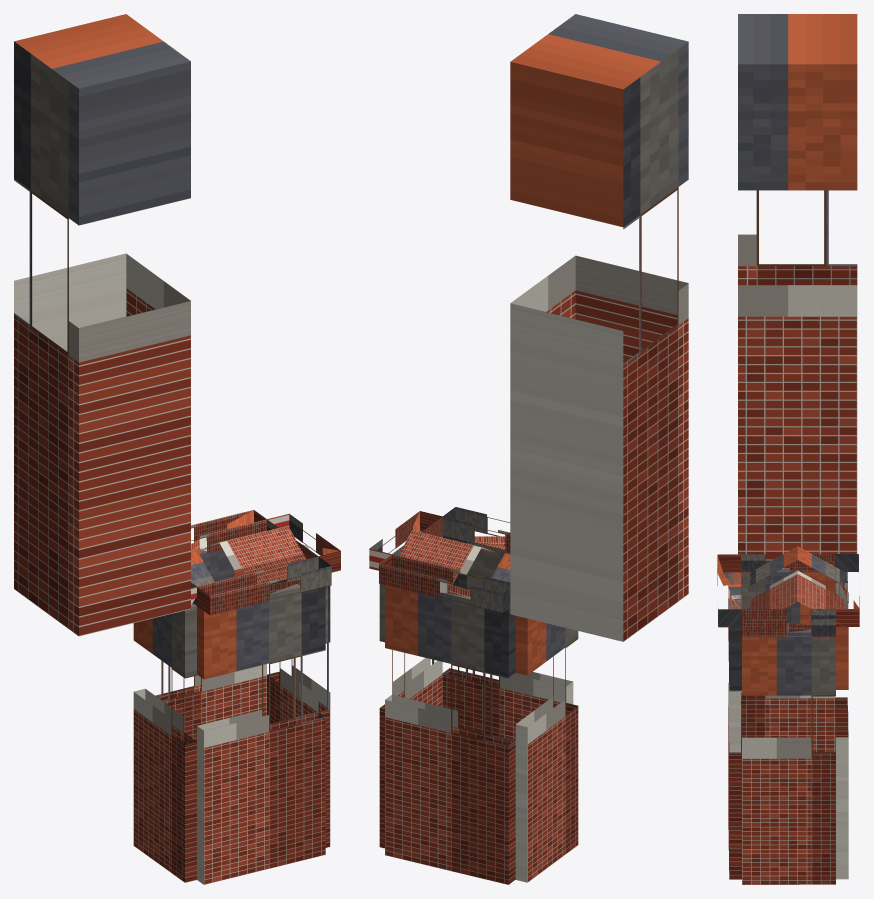
3 renders of one model, left to right at view 1: azimuth 30°, elevation 25°; view 2: azimuth 150°, elevation 25°; view 3: azimuth 270°, elevation 25°, orthographic. The views are drawn at different scales.
Parts seen in each view (by area): view 1: 1107168846__chimney_0_xb, 1107168846__wall_2_xb, 1107168846__wall_3_xb, 1107168846__wall_0_xb, 1107168846__wall_1_xb, 1107168846__cornice_2, 1107168846_roof_-1_xb, 1107168846__cornice_0, 1107168846__cornice_1; view 2: 1107168846__chimney_0_xb, 1107168846__wall_0_xb, 1107168846__wall_3_xb, 1107168846__wall_2_xb, 1107168846__cornice_0, 1107168846__wall_1_xb, 1107168846_roof_1_xb, 1107168846__cornice_2, 1107168846__cornice_1; view 3: 1107168846__chimney_0_xb, 1107168846__wall_1_xb, 1107168846__wall_3_xb, 1107168846__wall_2_xb, 1107168846__wall_0_xb, 1107168846__cornice_1, 1107168846_roof_1_xb, 1107168846_roof_-1_xb, 1107168846__cornice_2, 1107168846__cornice_0, 1107168846__cornice_3.
Boxes of the visible parts, left/top/right/bottom form: 1107168846__chimney_0_xb: left=14, top=14, right=190, bottom=636; 1107168846__wall_2_xb: left=197, top=583, right=325, bottom=884; 1107168846__wall_3_xb: left=133, top=604, right=196, bottom=882; 1107168846__wall_0_xb: left=155, top=549, right=266, bottom=741; 1107168846__wall_1_xb: left=267, top=579, right=330, bottom=847; 1107168846__cornice_2: left=197, top=556, right=331, bottom=615; 1107168846_roof_-1_xb: left=191, top=526, right=305, bottom=586; 1107168846__cornice_0: left=191, top=510, right=266, bottom=555; 1107168846__cornice_1: left=267, top=513, right=340, bottom=572; 1107168846__chimney_0_xb: left=510, top=14, right=688, bottom=641; 1107168846__wall_0_xb: left=385, top=585, right=515, bottom=884; 1107168846__wall_3_xb: left=515, top=616, right=578, bottom=882; 1107168846__wall_2_xb: left=442, top=536, right=573, bottom=740; 1107168846__cornice_0: left=379, top=554, right=510, bottom=612; 1107168846__wall_1_xb: left=379, top=536, right=442, bottom=848; 1107168846_roof_1_xb: left=399, top=530, right=510, bottom=584; 1107168846__cornice_2: left=442, top=507, right=510, bottom=552; 1107168846__cornice_1: left=369, top=511, right=442, bottom=570; 1107168846__chimney_0_xb: left=738, top=14, right=857, bottom=568; 1107168846__wall_1_xb: left=742, top=630, right=835, bottom=884; 1107168846__wall_3_xb: left=741, top=569, right=834, bottom=752; 1107168846__wall_2_xb: left=728, top=572, right=741, bottom=879; 1107168846__wall_0_xb: left=835, top=572, right=848, bottom=879; 1107168846__cornice_1: left=742, top=609, right=835, bottom=637; 1107168846_roof_1_xb: left=797, top=546, right=844, bottom=626; 1107168846_roof_-1_xb: left=750, top=546, right=797, bottom=613; 1107168846__cornice_2: left=717, top=554, right=741, bottom=627; 1107168846__cornice_0: left=835, top=554, right=859, bottom=626; 1107168846__cornice_3: left=741, top=554, right=834, bottom=572.
Size of the model in its own units: 0.3534 by 1.05 by 0.1791.
Materials: 1 (1 with a texture image).
